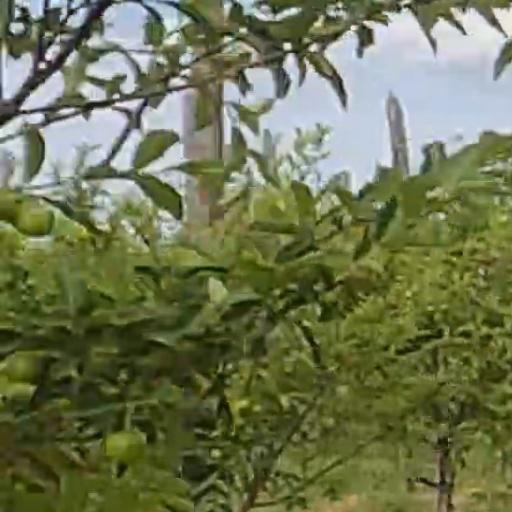acerola: (109, 433, 146, 462), (10, 352, 42, 381), (19, 208, 54, 231)
